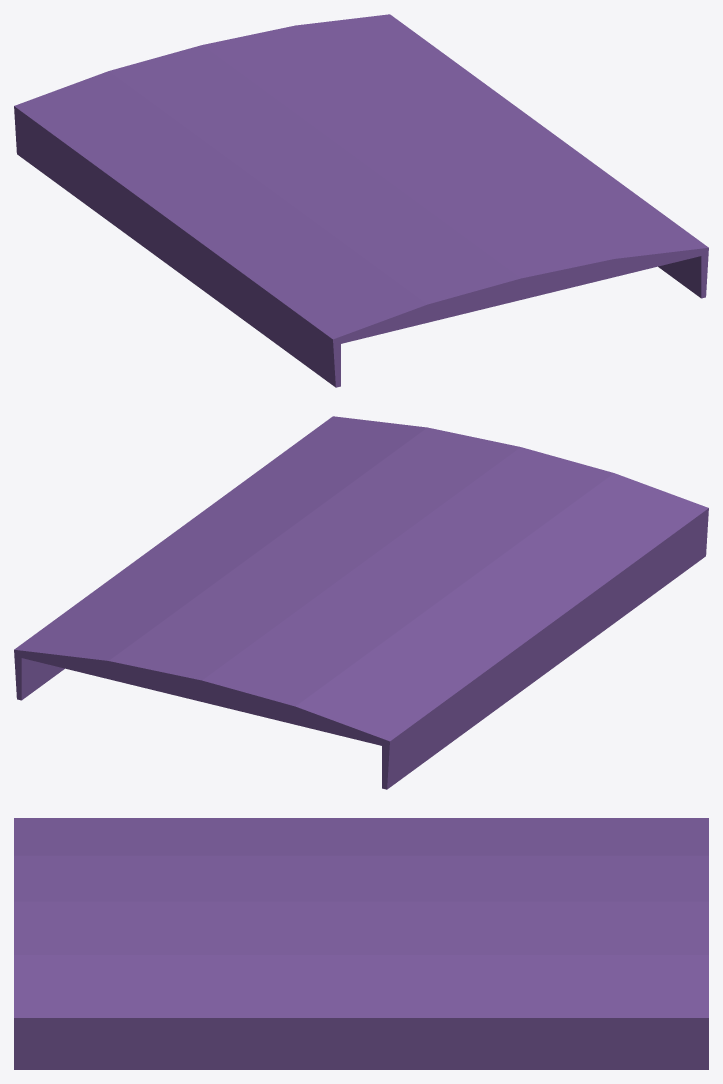
File: Itr_Bed_Single_Blanket_15.FBX
3 renders of one model, top to bottom at view 1: azimuth 30°, elevation 25°; view 2: azimuth 150°, elevation 25°; view 3: azimuth 270°, elevation 25°, orthographic. The views are drawn at different scales.
Parts seen in each view (by area): view 1: Itr_Bed_Single_Blanket_15; view 2: Itr_Bed_Single_Blanket_15; view 3: Itr_Bed_Single_Blanket_15.
Boxes of the visible parts, x1=… form: Itr_Bed_Single_Blanket_15: x1=14, y1=14, x2=708, y2=387; Itr_Bed_Single_Blanket_15: x1=14, y1=416, x2=708, y2=789; Itr_Bed_Single_Blanket_15: x1=14, y1=818, x2=708, y2=1069.
Size of the model in its own units: 44.15 by 7.19 by 64.86.
